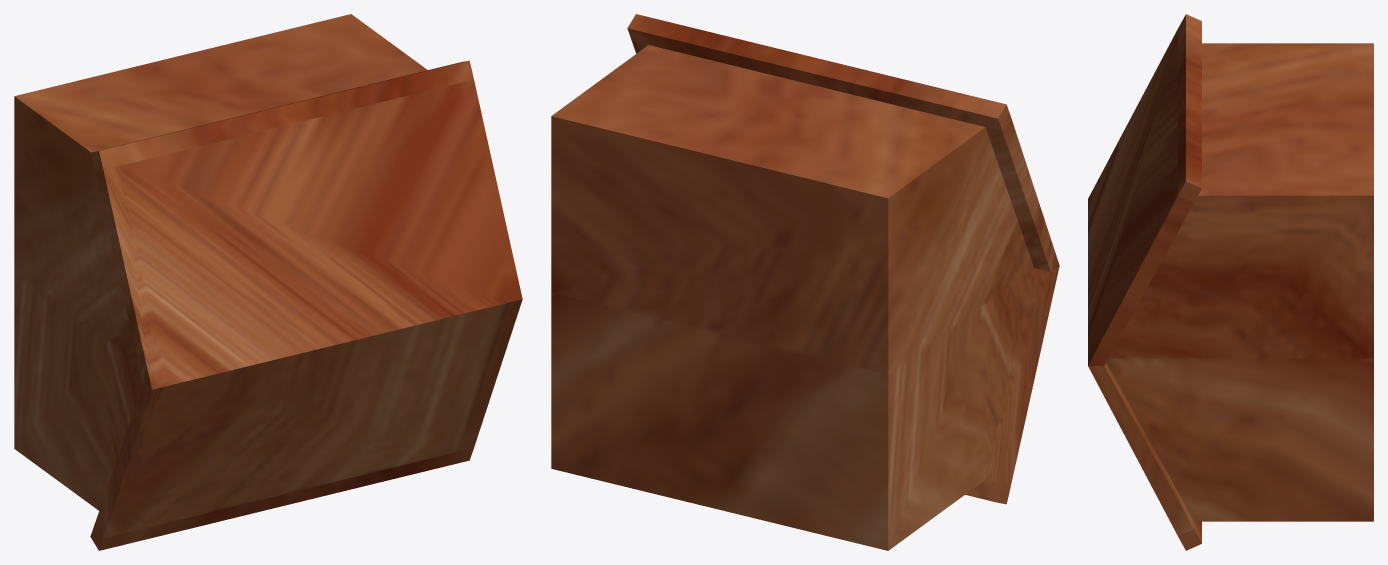
File: HouseLevel1.fbx
3 views of the same model, side by side, from view 1: azimuth 30°, elevation 25°; view 2: azimuth 150°, elevation 25°; view 3: azimuth 270°, elevation 25° (orthographic). The views are drawn at different scales.
Parts seen in each view (by area): view 1: Plane; view 2: Plane; view 3: Plane.
Part boxes in pixels (left/top/right/bottom): Plane: left=14, top=14, right=522, bottom=550; Plane: left=551, top=14, right=1059, bottom=550; Plane: left=1088, top=14, right=1373, bottom=550.
Size of the model in its own units: 220 by 227 by 159.
Materials: 1 (1 with a texture image).
